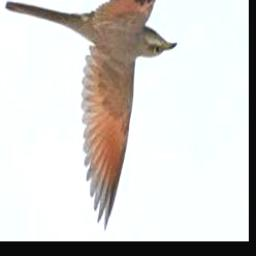Cuckoo: (6, 0, 178, 230)
